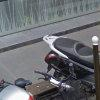Motorcycle: (33, 27, 100, 100)
